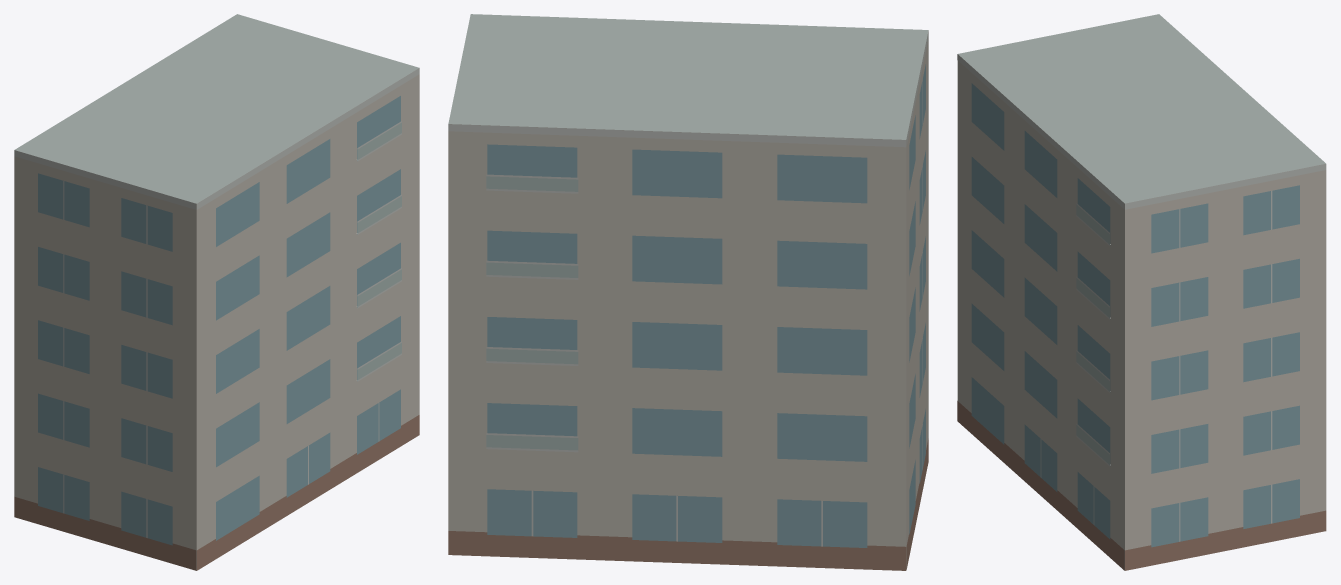
File: survey-upis-32967231.glb
3 renders of one model, left to right at view 1: azimuth 30°, elevation 25°; view 2: azimuth 150°, elevation 25°; view 3: azimuth 270°, elevation 25°, orthographic. The views are drawn at different scales.
Visible parts, largest first — view 1: survey-upis-32967231.tmp; view 2: survey-upis-32967231.tmp; view 3: survey-upis-32967231.tmp.
Part boxes in pixels (box(x1,y1,x2,y2)): survey-upis-32967231.tmp: box(14, 14, 419, 570); survey-upis-32967231.tmp: box(448, 14, 928, 570); survey-upis-32967231.tmp: box(957, 14, 1326, 570).
Bounding box in the file's own units: 15.95 × 14.4 × 13.12.
